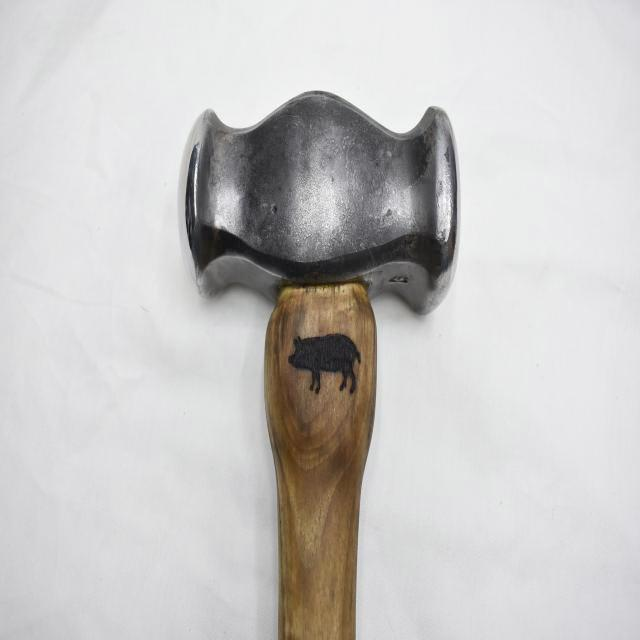hammer: (180, 75, 472, 640)
